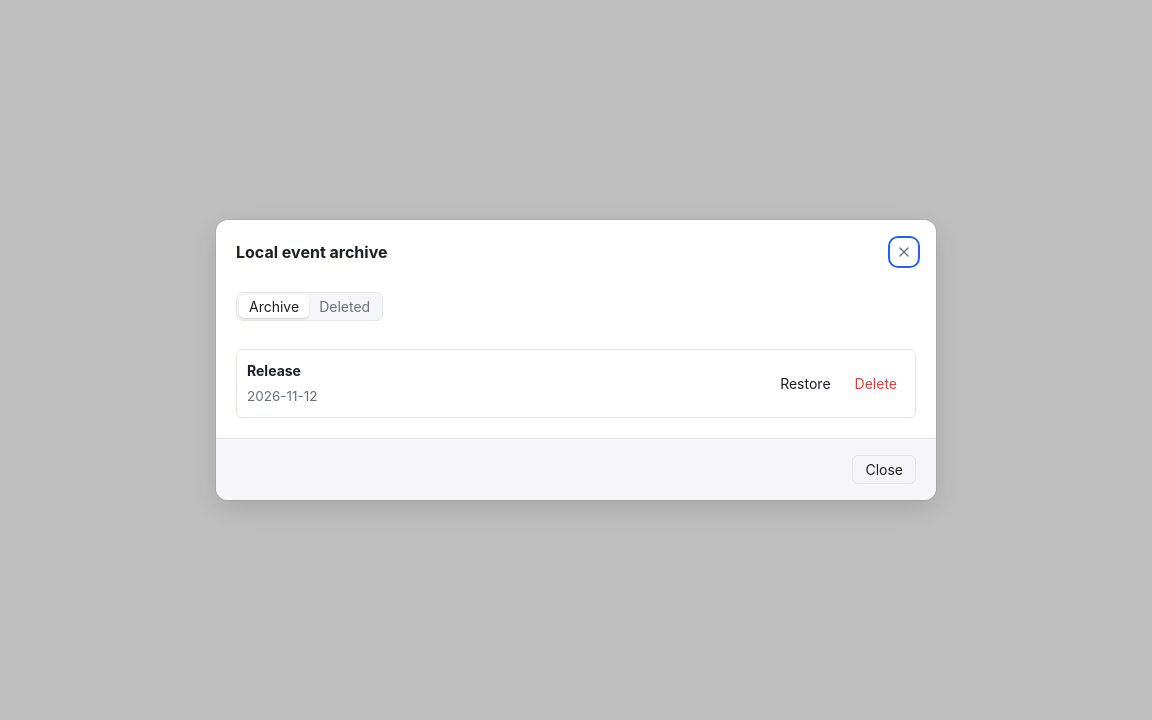
Test case: archive actions serialize and return focus after a restored row disappears
Click the button "Restore". click: coordinates (805, 384)
box: [772,371,839,396]
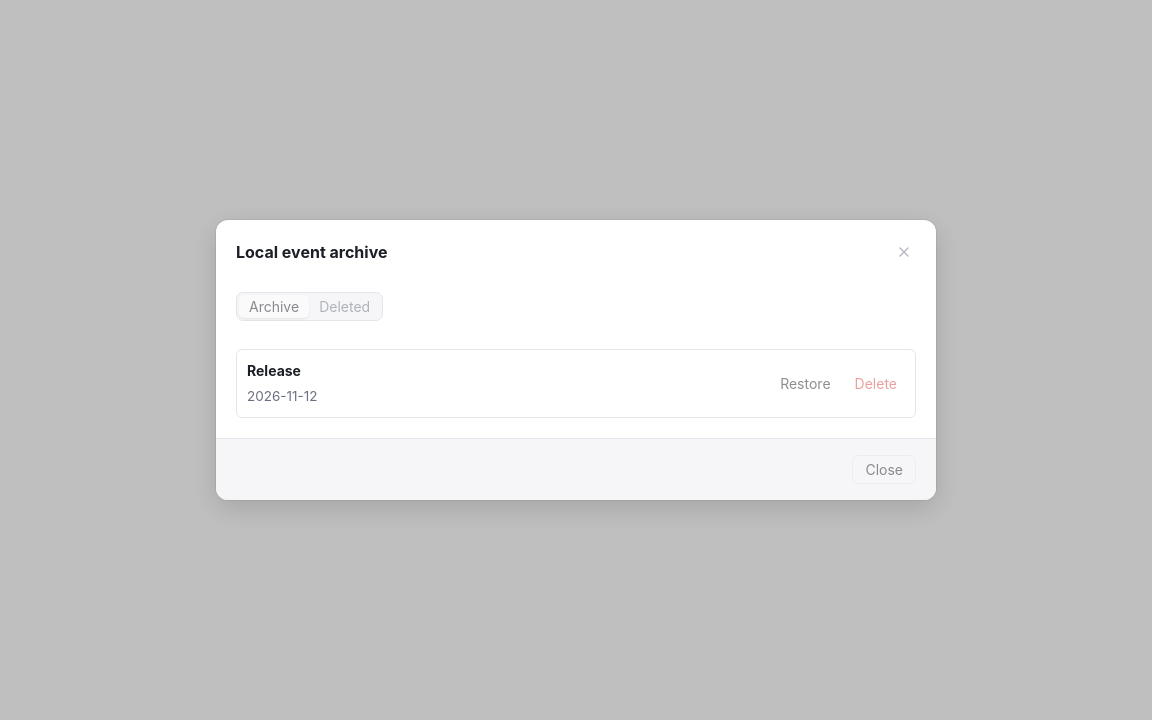
expect the button "Restore" is disabled: met
Click the button "Restore". click: coordinates (805, 384)
box: [772,371,839,396]
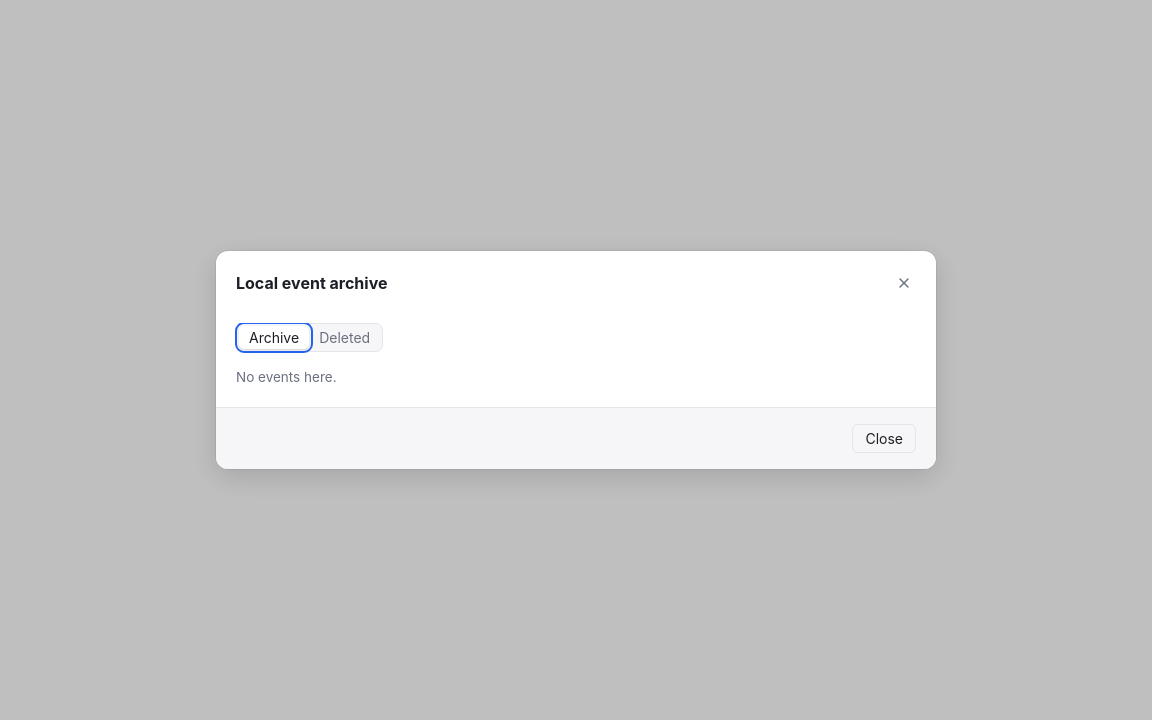
expect the text "No events here." is shown: met, box [236,369,336,385]
